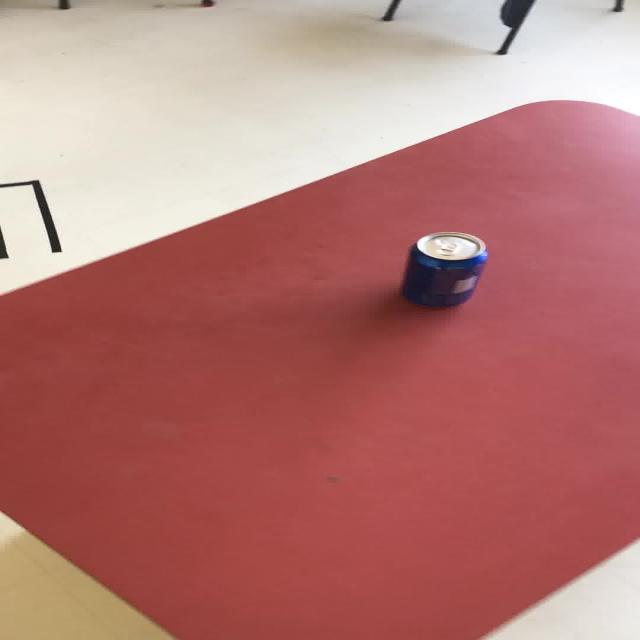tonic: (400, 230, 488, 307)
